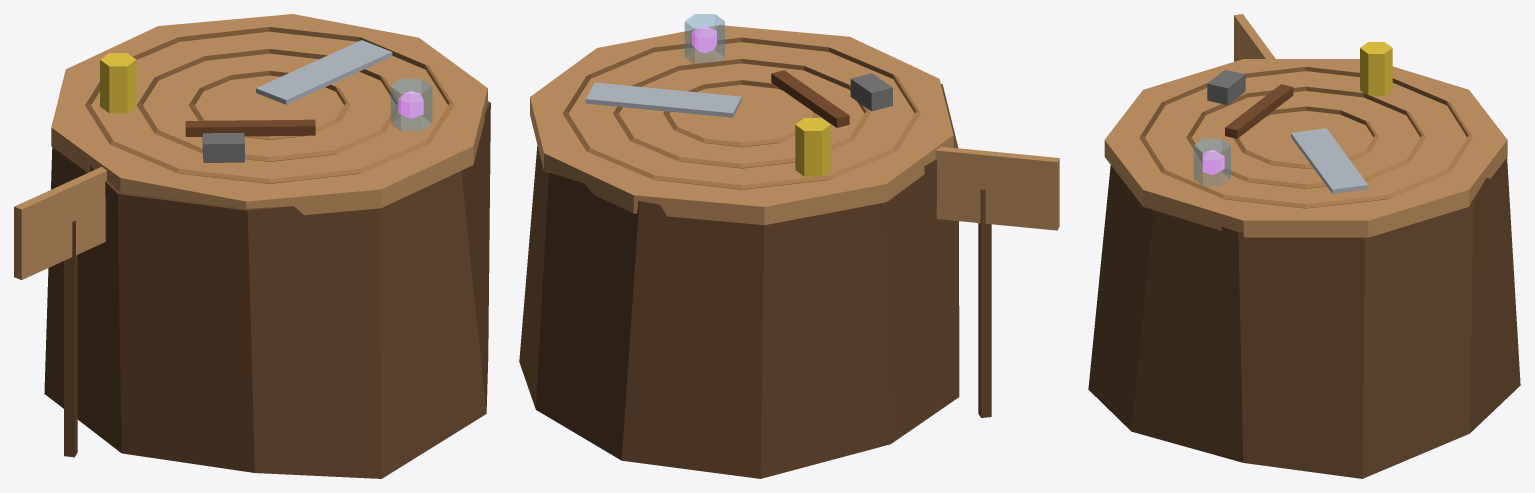
Rendered from craftBench.fbx.
The picture shows the model from 3 angles, left to right: view 1: azimuth 30°, elevation 25°; view 2: azimuth 150°, elevation 25°; view 3: azimuth 270°, elevation 25°; orthographic projection. The views are drawn at different scales.
Visible parts, largest first — view 1: craftBench; view 2: craftBench; view 3: craftBench.
Boxes of the visible parts, x1,y1,x2,y2 form: craftBench: (14, 14, 490, 478); craftBench: (519, 14, 1059, 478); craftBench: (1088, 14, 1520, 478).
Bounding box in the file's own units: 4.35 × 2.79 × 3.69.
